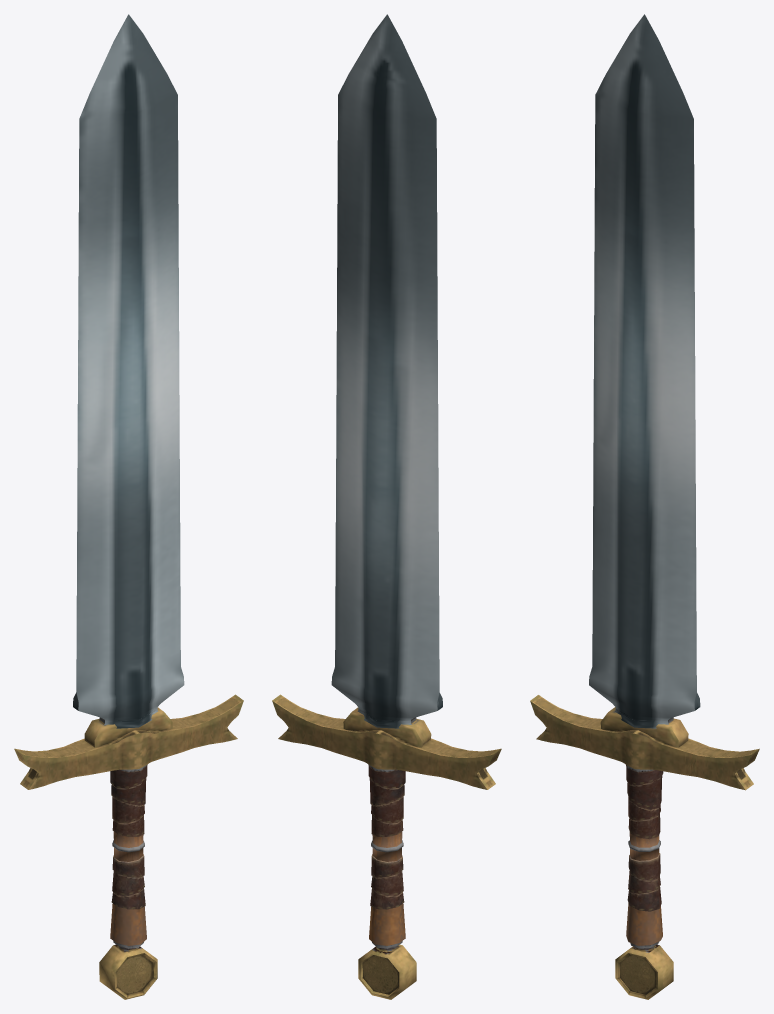
Rendered from Sword01.fbx.
3 views of the same model, side by side, from view 1: azimuth 30°, elevation 25°; view 2: azimuth 150°, elevation 25°; view 3: azimuth 330°, elevation 25° (orthographic).
Visible parts, largest first — view 1: Sword01; view 2: Sword01; view 3: Sword01.
Part boxes in pixels (<box>): Sword01: <box>14,14,243,999</box>; Sword01: <box>272,14,501,999</box>; Sword01: <box>530,14,759,999</box>.
Size of the model in its own units: 31.75 by 135 by 5.07.
Materials: 1 (1 with a texture image).
